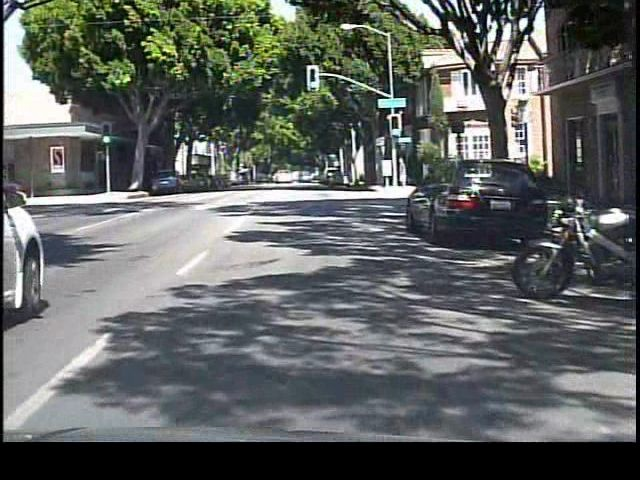person: (394, 156, 411, 192)
